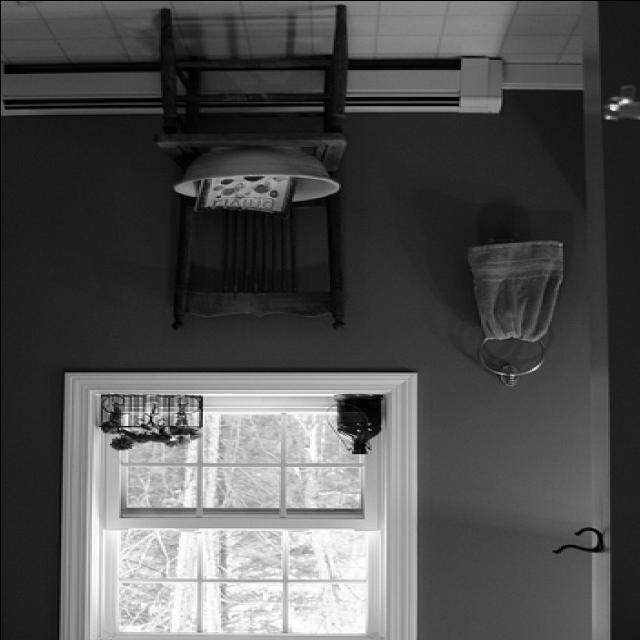chair: (146, 3, 355, 336)
